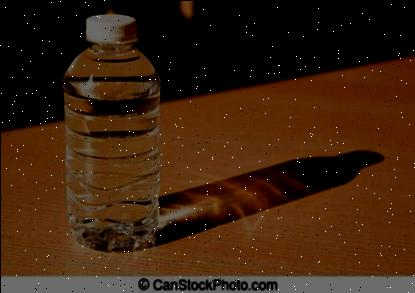Plastic Bottle: (62, 14, 161, 251)
